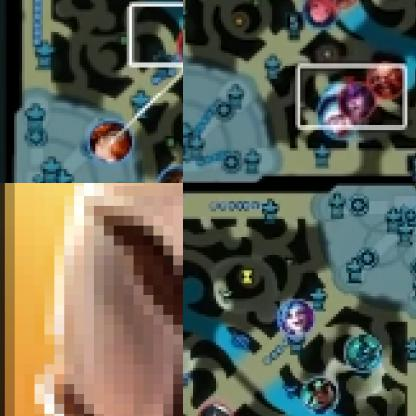Fiddlesticks: (156, 164, 182, 182)
Gragas: (370, 59, 407, 98)
Hecarim: (343, 331, 386, 373)
Janna: (321, 104, 358, 141)
Jinx: (274, 296, 316, 338)
Karma: (300, 380, 342, 415)
Kayle: (0, 183, 182, 415)
Miss Fortune: (89, 124, 136, 166)
Qiyana: (324, 0, 362, 8)
Senna: (197, 404, 235, 415)
Syndra: (340, 83, 377, 120)
Zoe: (303, 0, 337, 29)
